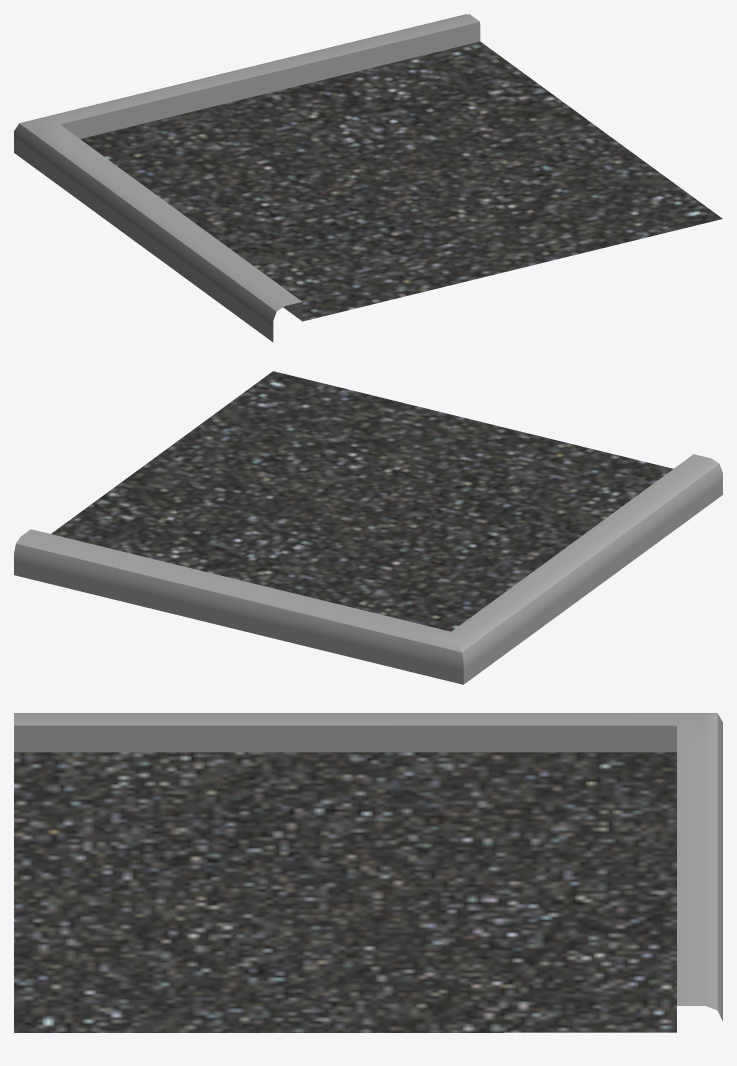
File: hörnBev.fbx
3 renders of one model, top to bottom at view 1: azimuth 30°, elevation 25°; view 2: azimuth 150°, elevation 25°; view 3: azimuth 270°, elevation 25°, orthographic. The views are drawn at different scales.
Parts seen in each view (by area): view 1: polySurface7; view 2: polySurface7; view 3: polySurface7.
Boxes of the visible parts, left/top/right/bottom form: polySurface7: left=14, top=14, right=722, bottom=342; polySurface7: left=14, top=371, right=722, bottom=684; polySurface7: left=14, top=713, right=722, bottom=1032.
Size of the model in its own units: 924 by 66.11 by 923.
